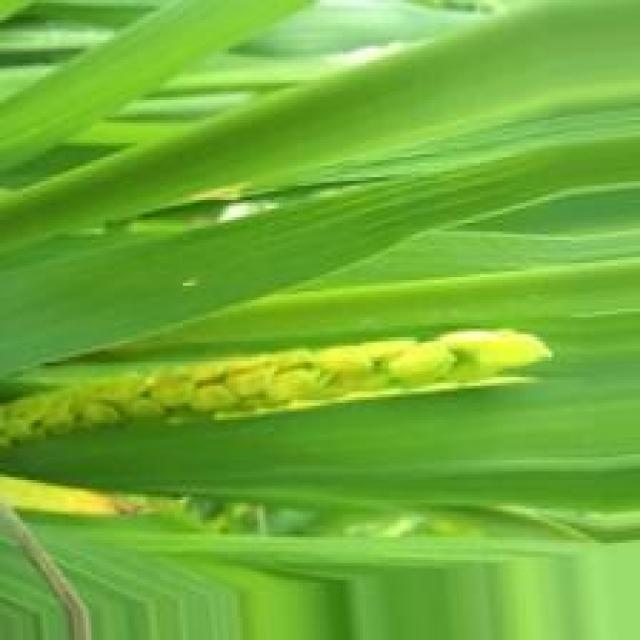HealthyLeaf: (0, 134, 638, 380), (0, 380, 638, 509)
